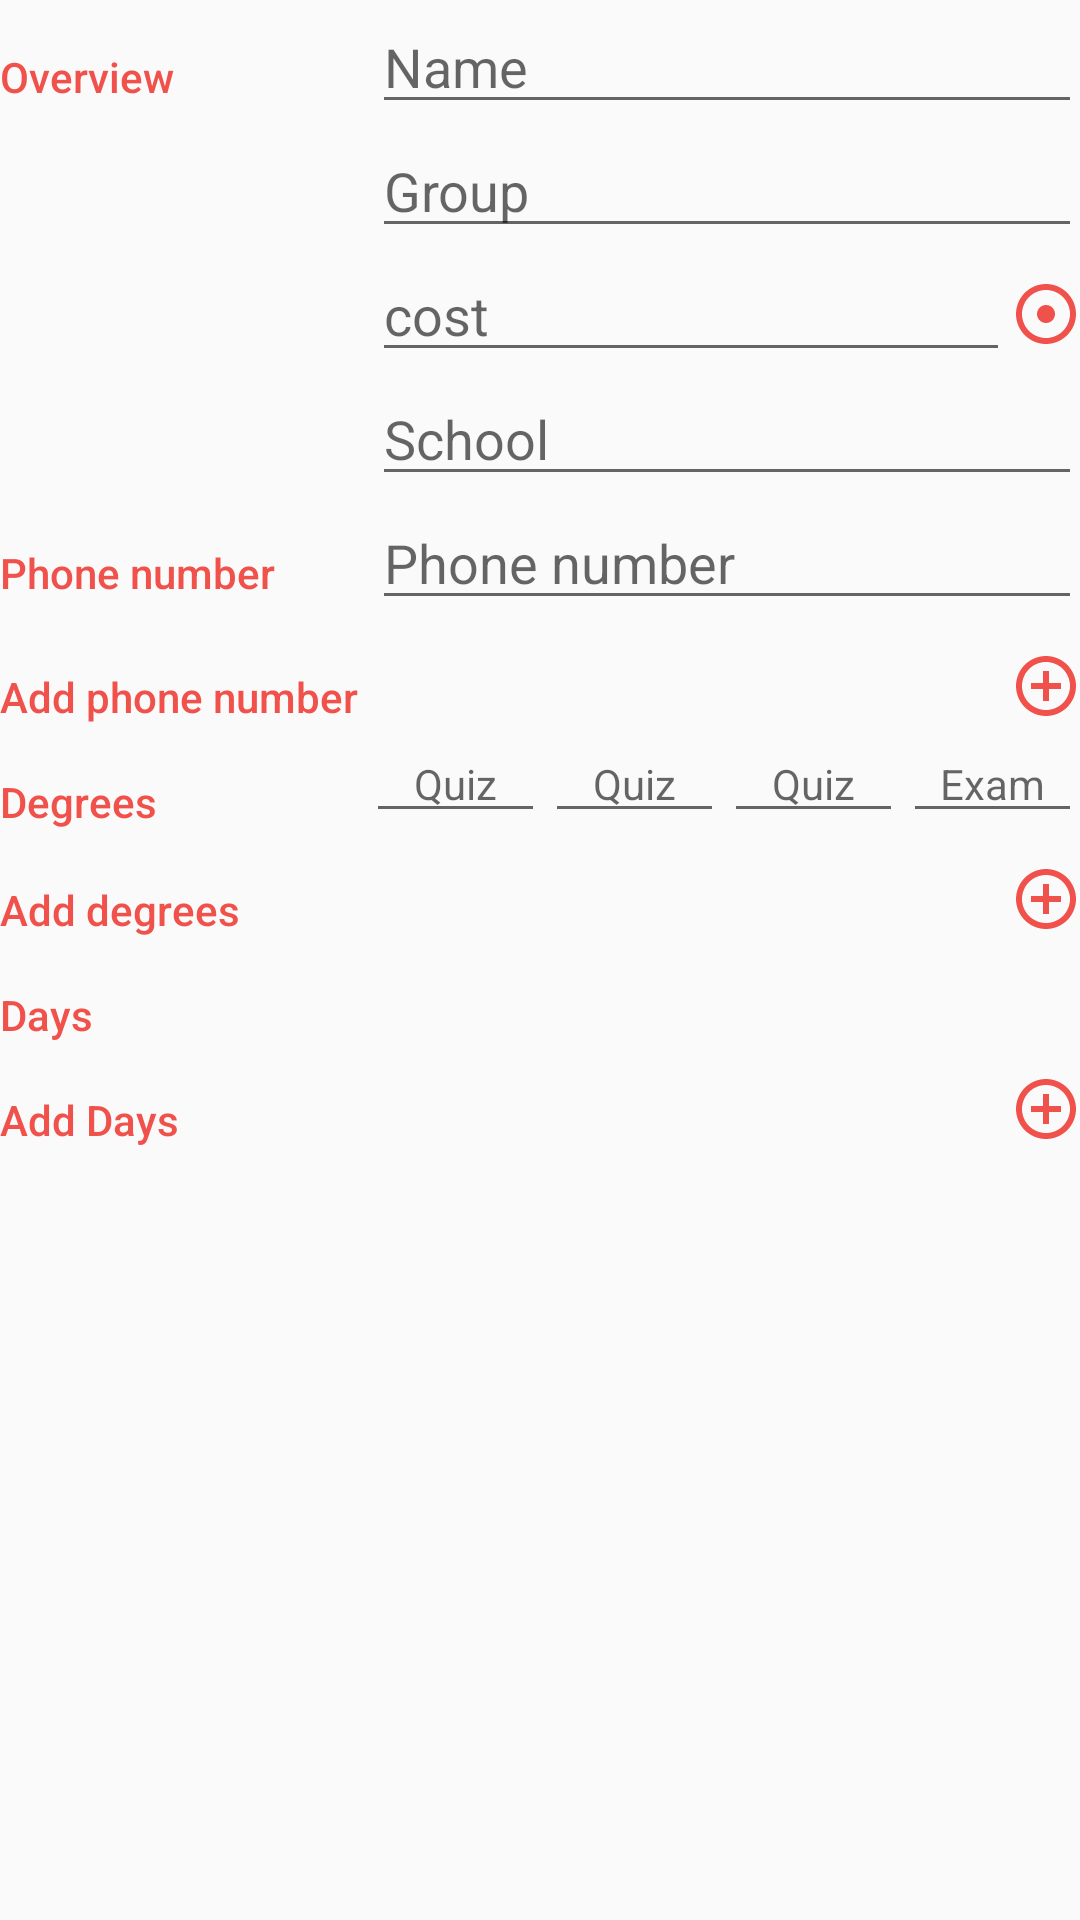

Locate icon controls on the screen. Image size 1080w x 1920h, boxes as (x1, y1, x2, y2).
add circle: (1016, 656, 1076, 716), (1016, 869, 1076, 929), (1016, 1079, 1076, 1139)
